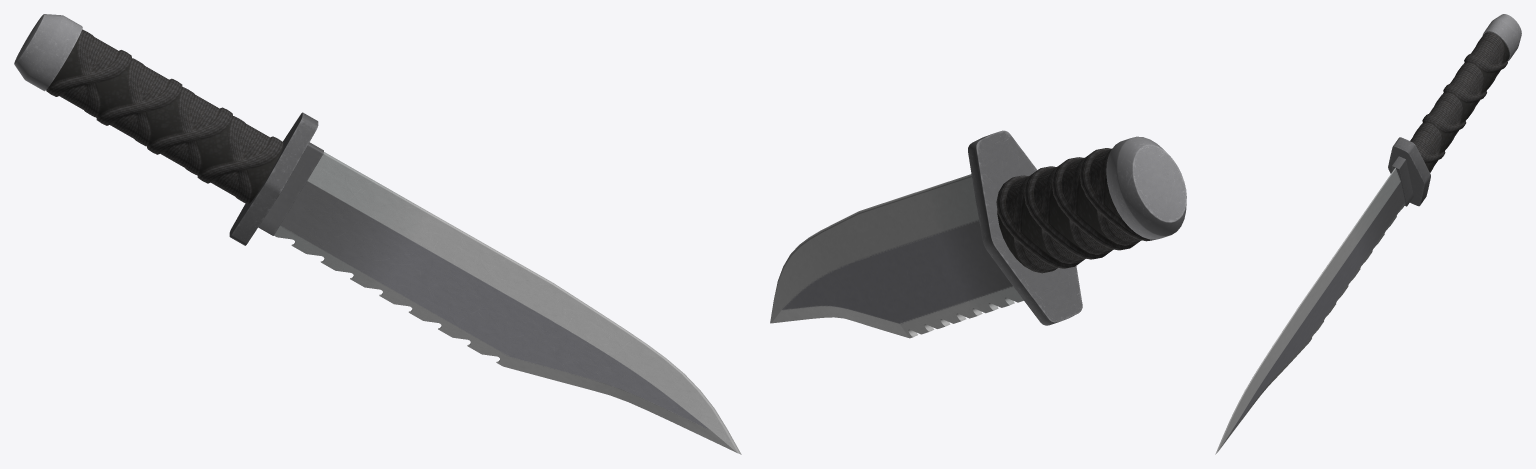
The model's file is cod4_tactical_knife-reimagined_game_ready.glb.
3 renders of one model, left to right at view 1: azimuth 30°, elevation 25°; view 2: azimuth 150°, elevation 25°; view 3: azimuth 270°, elevation 25°, orthographic. The views are drawn at different scales.
Parts seen in each view (by area): view 1: COD4 Tactical Knife LOD 0; view 2: COD4 Tactical Knife LOD 0; view 3: COD4 Tactical Knife LOD 0.
Part boxes in pixels (x1=…): COD4 Tactical Knife LOD 0: x1=14, y1=14, x2=741, y2=454; COD4 Tactical Knife LOD 0: x1=770, y1=130, x2=1186, y2=338; COD4 Tactical Knife LOD 0: x1=1215, y1=14, x2=1521, y2=454.
Size of what is drawn, in the model's own units: 0.2539 by 0.1905 by 0.1909.
Materials: 1 (1 with a texture image).
